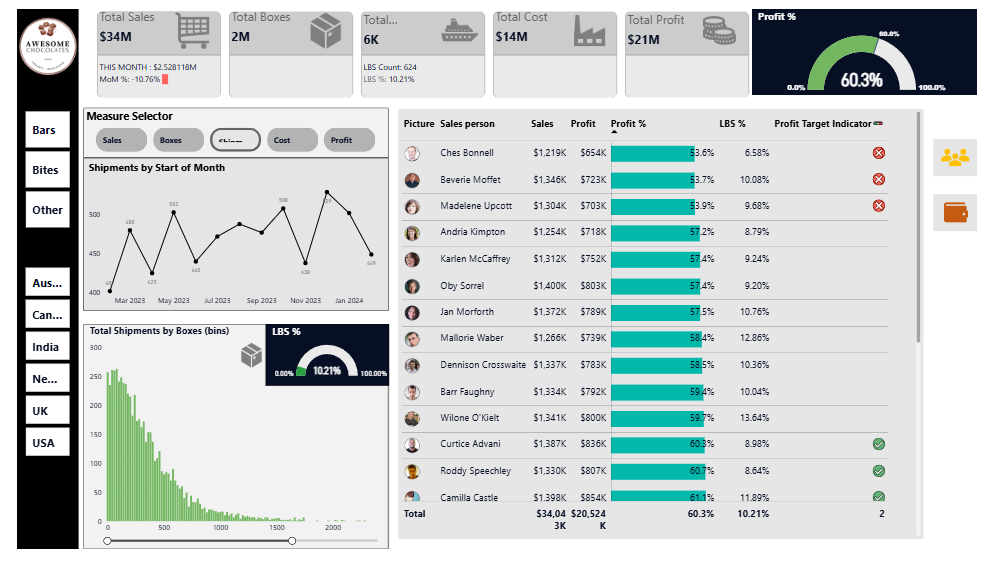

Layout of this report page (visuals, bound fields, positions):
{"tool":"powerbi","page":{"name":"Page 2","canvas":[1920,1080],"ordinal":1},"visuals":[{"type":"shape","box":[0,0,123.3,1080],"z":0},{"type":"cardVisual","fields":{"Data":["_Measures.Total Sales","_Measures.Total Boxes","_Measures.Total Shipments","_Measures.Total Cost","_Measures.Total Profit"]},"box":[154,0,1316,182],"z":1000},{"type":"gauge","fields":{"Y":["_Measures.Profit %"]},"box":[1470,0,450,172],"z":2000},{"type":"image","box":[0,0,124,150],"z":3000},{"type":"lineChart","fields":{"Y":["_Measures.Total Shipments"],"Category":["calendar.Start of Month"]},"box":[133,298,611,306],"z":4000},{"type":"advancedSlicerVisual","fields":{"Values":["Measure Selector.Measure Selector"]},"box":[133,198,611,100],"z":5000},{"type":"columnChart","fields":{"Category":["shipments.Boxes (bins)"],"Y":["_Measures.Total Shipments"]},"box":[133,630,610,450],"z":6000},{"type":"gauge","fields":{"Y":["_Measures.LBS %"]},"box":[496.7,630,246.7,123.3],"z":7000},{"type":"image","box":[416.7,656.7,103.3,70],"z":8000},{"type":"tableEx","title":"People Details","fields":{"Values":["people.Picture","people.Sales person","_Measures.Total Sales","_Measures.Total Profit","_Measures.Profit %","_Measures.LBS %","_Measures.Profit Target Indicator"]},"box":[762,200,1050,860],"z":9000},{"type":"image","title":"Product Icon","box":[1832,370,88,74],"z":11000},{"type":"image","title":"People Icon","box":[1832,260,88,74],"z":12000},{"type":"advancedSlicerVisual","fields":{"Values":["products.Category"]},"box":[11.7,200,98.3,243.3],"z":13000},{"type":"advancedSlicerVisual","fields":{"Values":["locations.Geo"]},"box":[12,512,98,388],"z":14000}]}

Visuals, with their boxes in screenshot pixels (x1, y1, x2, y2), scaled from the page's 1920x1080 canvas onto the 1002x571 screenshot:
shape: Rect(0, 0, 64, 570)
cardVisual - _Measures.Total Sales x _Measures.Total Boxes: Rect(80, 0, 767, 96)
gauge - _Measures.Profit %: Rect(767, 0, 1001, 91)
image: Rect(0, 0, 65, 79)
lineChart - _Measures.Total Shipments x calendar.Start of Month: Rect(69, 158, 388, 319)
advancedSlicerVisual - Measure Selector.Measure Selector: Rect(69, 105, 388, 158)
columnChart - shipments.Boxes (bins) x _Measures.Total Shipments: Rect(69, 333, 388, 570)
gauge - _Measures.LBS %: Rect(259, 333, 388, 398)
image: Rect(217, 347, 271, 384)
"People Details" tableEx: Rect(398, 106, 946, 560)
"Product Icon" image: Rect(956, 196, 1001, 235)
"People Icon" image: Rect(956, 137, 1001, 177)
advancedSlicerVisual - products.Category: Rect(6, 106, 57, 234)
advancedSlicerVisual - locations.Geo: Rect(6, 271, 57, 476)
